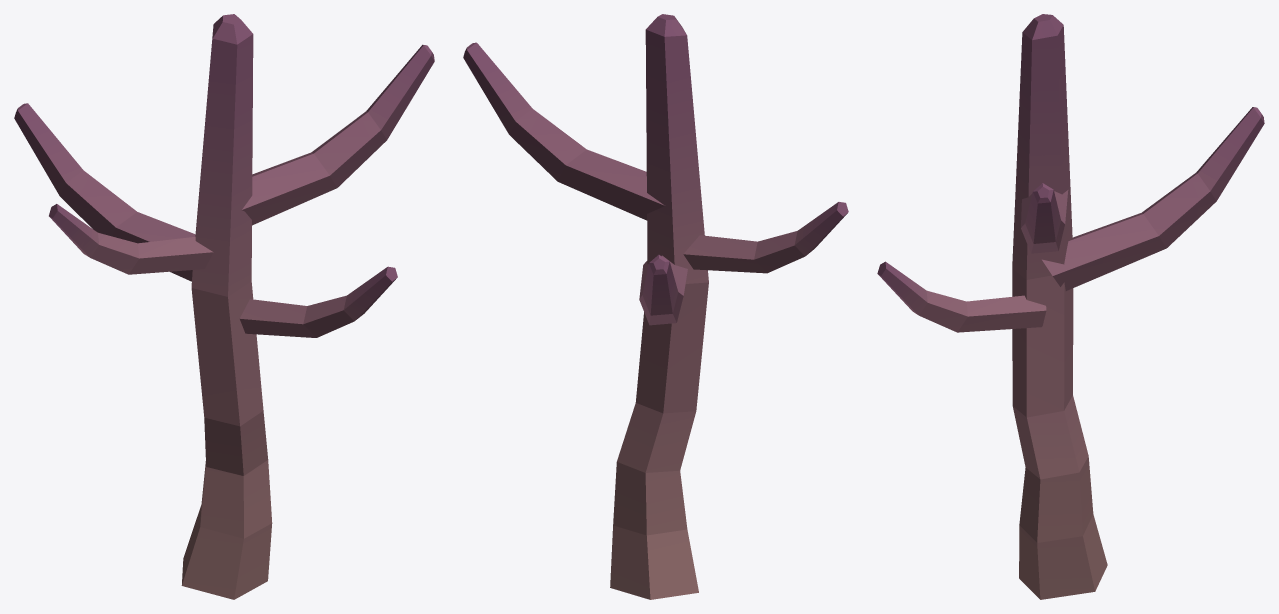
Rendered from prune_tree_1.gltf.
3 views of the same model, side by side, from view 1: azimuth 30°, elevation 25°; view 2: azimuth 150°, elevation 25°; view 3: azimuth 270°, elevation 25° (orthographic).
Parts seen in each view (by area): view 1: Object_8; view 2: Object_8; view 3: Object_8.
Part boxes in pixels (left/top/right/bottom): Object_8: left=14, top=14, right=434, bottom=599; Object_8: left=463, top=14, right=848, bottom=599; Object_8: left=877, top=14, right=1264, bottom=599.
Bounding box in the file's own units: 8.06 × 11.49 × 7.12.
1 material, 1 textured.
